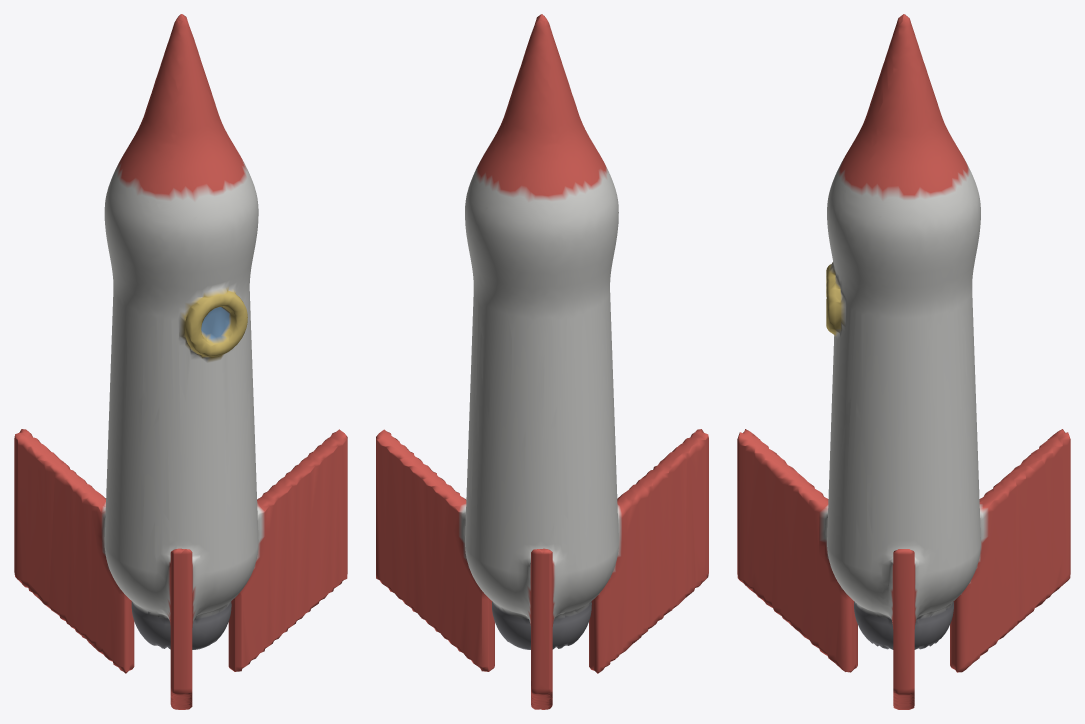
The model's file is rocket.glb.
3 renders of one model, left to right at view 1: azimuth 30°, elevation 25°; view 2: azimuth 150°, elevation 25°; view 3: azimuth 270°, elevation 25°, orthographic.
Visible parts, largest first — view 1: rocket; view 2: rocket; view 3: rocket.
Boxes of the visible parts, box(x1,y1,x2,y2) form: rocket: box(14, 14, 347, 709); rocket: box(376, 14, 708, 709); rocket: box(737, 14, 1070, 709).
Bounding box in the file's own units: 0.0377 × 0.096 × 0.0433.
